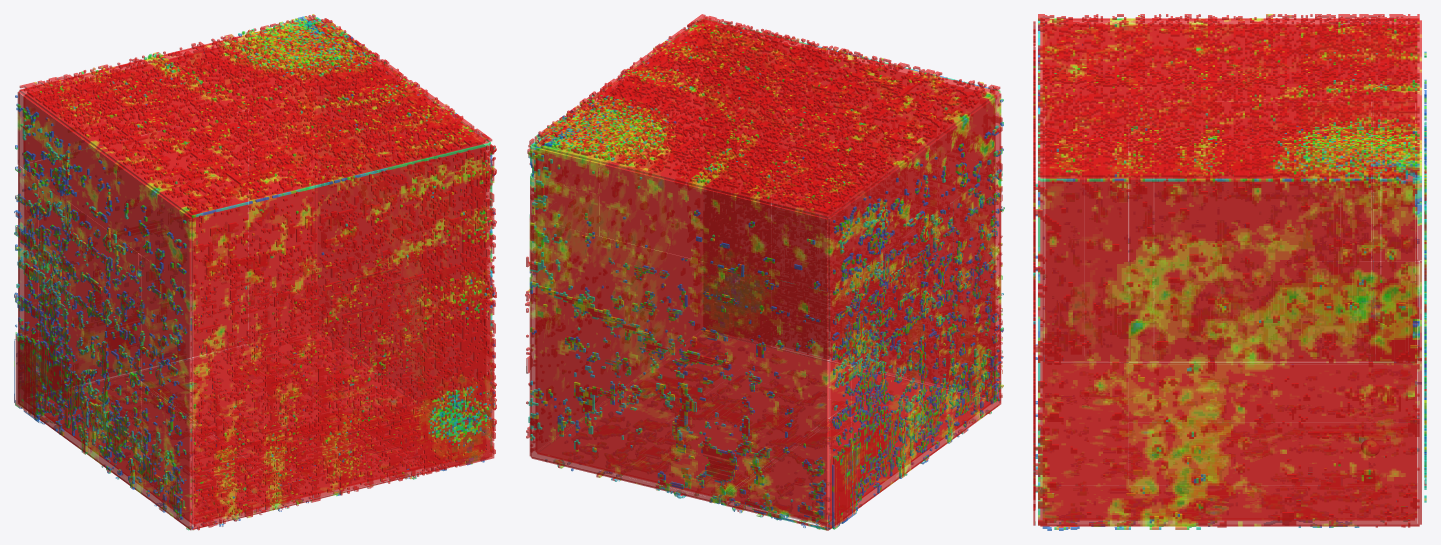
3 renders of one model, left to right at view 1: azimuth 30°, elevation 25°; view 2: azimuth 150°, elevation 25°; view 3: azimuth 270°, elevation 25°, orthographic. The views are drawn at different scales.
Visible parts, largest first — view 1: chunk:1.015, chunk:0.015, chunk:2.015, chunk:3.014, chunk:4.014, chunk:5.014, chunk:6.014, chunk:7.014; view 2: chunk:0.015, chunk:2.015, chunk:1.015, chunk:4.014, chunk:5.014, chunk:3.014, chunk:6.014, chunk:7.014; view 3: chunk:0.015, chunk:4.014, chunk:2.015, chunk:6.014, chunk:5.014, chunk:1.015, chunk:3.014, chunk:7.014.
Boxes of the visible parts, x1,y1,x2,y2 form: chunk:1.015: (146, 235, 422, 530); chunk:0.015: (14, 111, 377, 500); chunk:2.015: (15, 31, 379, 260); chunk:3.014: (146, 127, 422, 291); chunk:4.014: (248, 95, 447, 440); chunk:5.014: (383, 190, 496, 475); chunk:6.014: (248, 14, 454, 186); chunk:7.014: (379, 109, 496, 234); chunk:0.015: (597, 196, 964, 530); chunk:2.015: (599, 61, 964, 291); chunk:1.015: (733, 112, 1004, 437); chunk:4.014: (525, 127, 729, 477); chunk:5.014: (664, 95, 771, 374); chunk:3.014: (733, 32, 1003, 194); chunk:6.014: (527, 43, 731, 236); chunk:7.014: (660, 14, 774, 120); chunk:0.015: (1128, 101, 1426, 484); chunk:4.014: (1128, 235, 1426, 529); chunk:2.015: (1128, 14, 1426, 211); chunk:6.014: (1128, 137, 1426, 263); chunk:5.014: (1033, 257, 1128, 530); chunk:1.015: (1041, 102, 1128, 484); chunk:3.014: (1033, 14, 1128, 154); chunk:7.014: (1033, 137, 1128, 263).
Bounding box in the file's own units: 20.28 × 20.28 × 20.28.
Materials: 9 (8 with a texture image).
